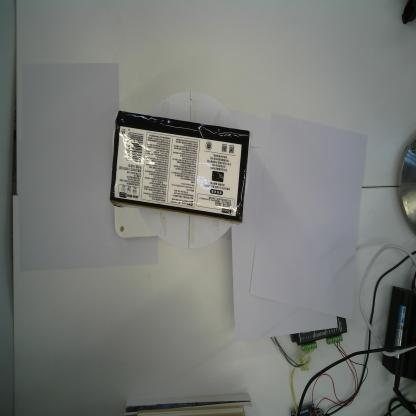Tissue: (109, 108, 252, 226)
